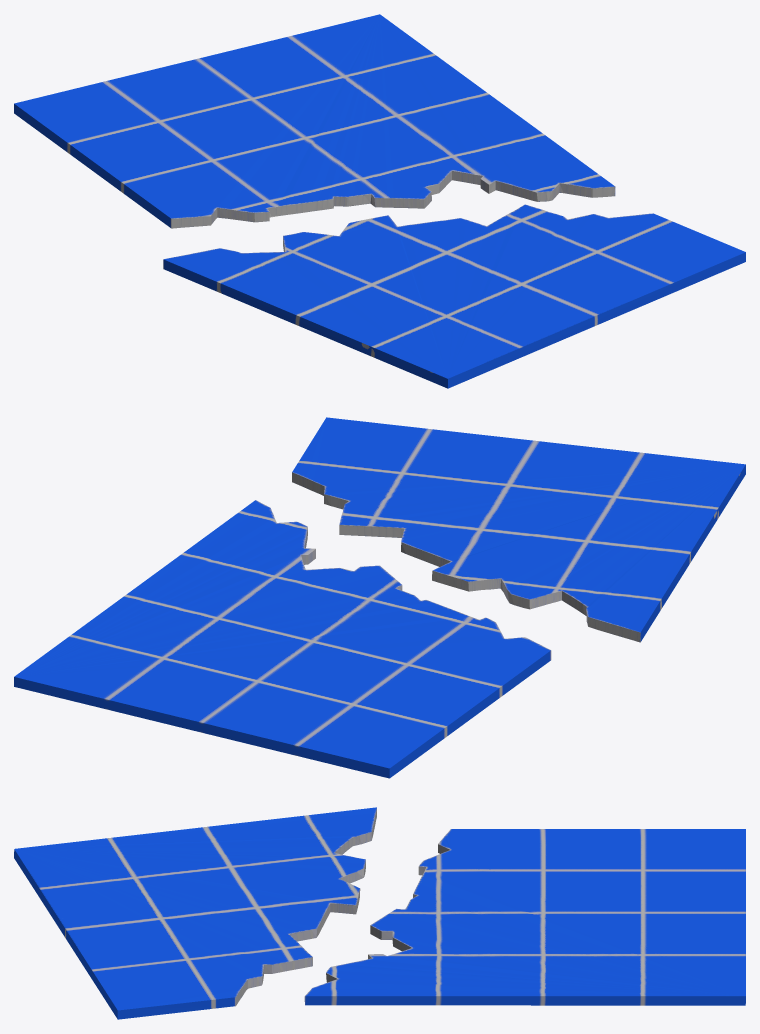
File: papier.glb
3 views of the same model, one above another, from view 1: azimuth 30°, elevation 25°; view 2: azimuth 150°, elevation 25°; view 3: azimuth 270°, elevation 25° (orthographic). The views are drawn at different scales.
Visible parts, largest first — view 1: 300570_23_06_15_11_51_43_2, 300570_23_06_15_11_51_43_1; view 2: 300570_23_06_15_11_51_43_2, 300570_23_06_15_11_51_43_1; view 3: 300570_23_06_15_11_51_43_2, 300570_23_06_15_11_51_43_1.
Part boxes in pixels (x1,y1,x2,y2): 300570_23_06_15_11_51_43_2: (14,14,615,228); 300570_23_06_15_11_51_43_1: (163,204,745,388); 300570_23_06_15_11_51_43_2: (14,500,551,778); 300570_23_06_15_11_51_43_1: (292,417,745,642); 300570_23_06_15_11_51_43_2: (304,829,745,1005); 300570_23_06_15_11_51_43_1: (14,807,376,1019).
Bounding box in the file's own units: 3.79 × 0.0799 × 5.76.
Materials: 2 (2 with a texture image).
